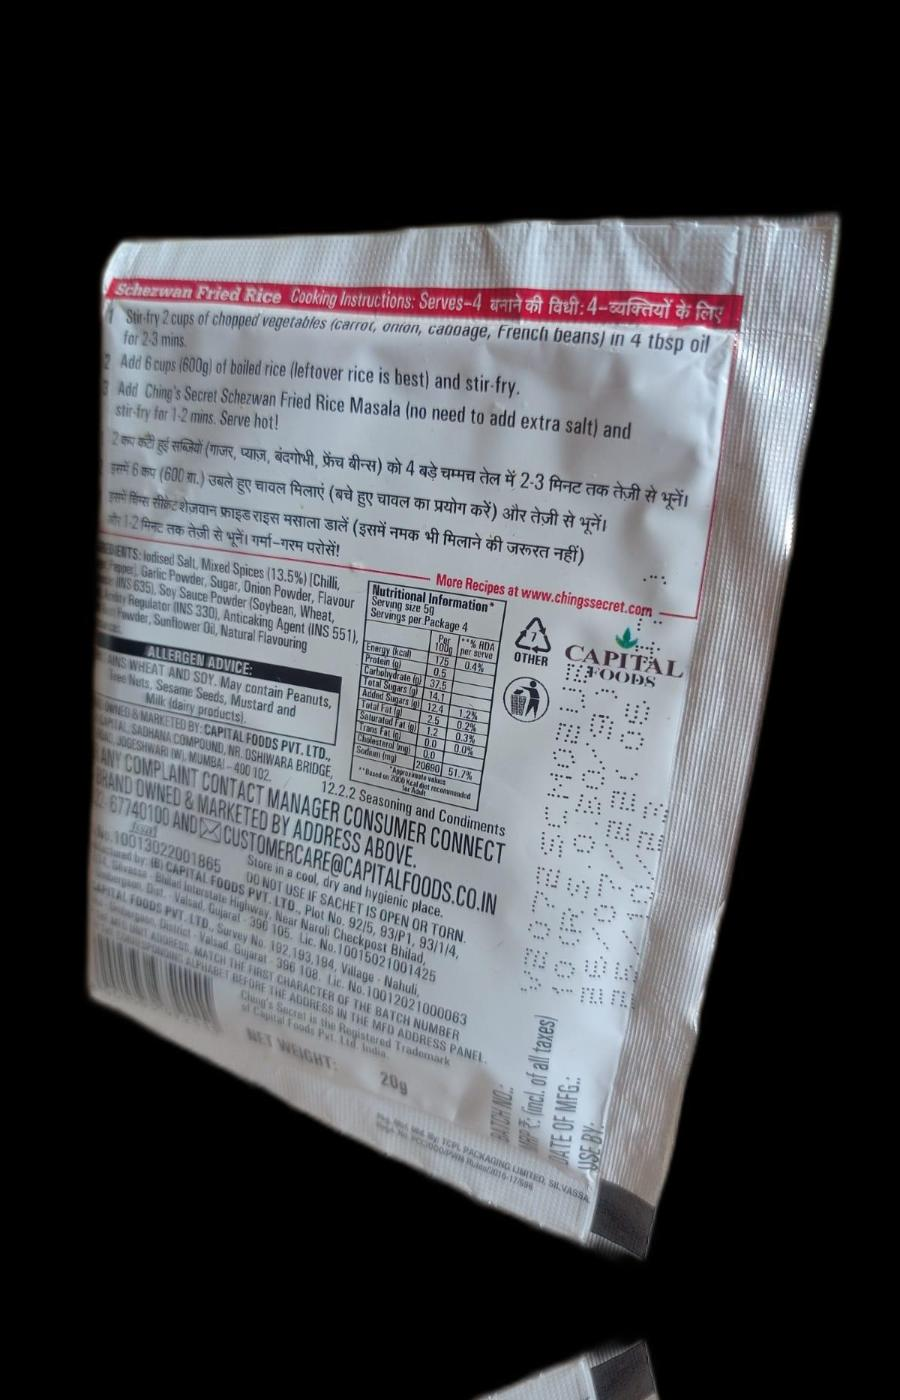Ching-s secret schezwan fried masala: (76, 230, 797, 1256)
